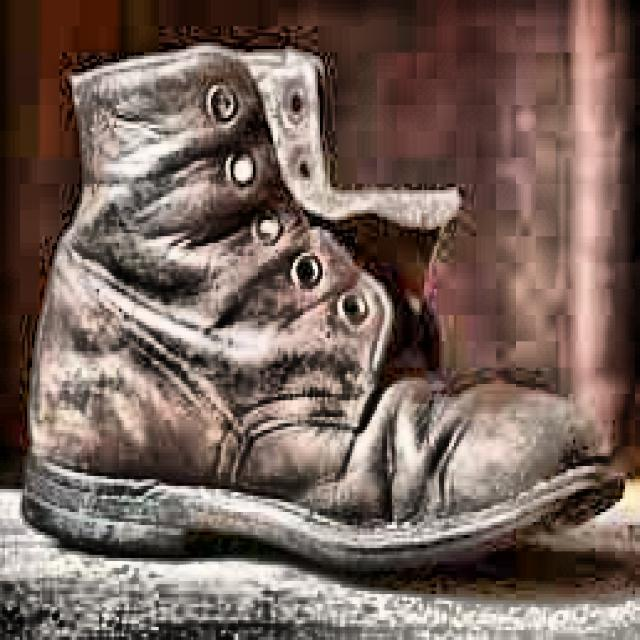shoes: (22, 38, 631, 556)
